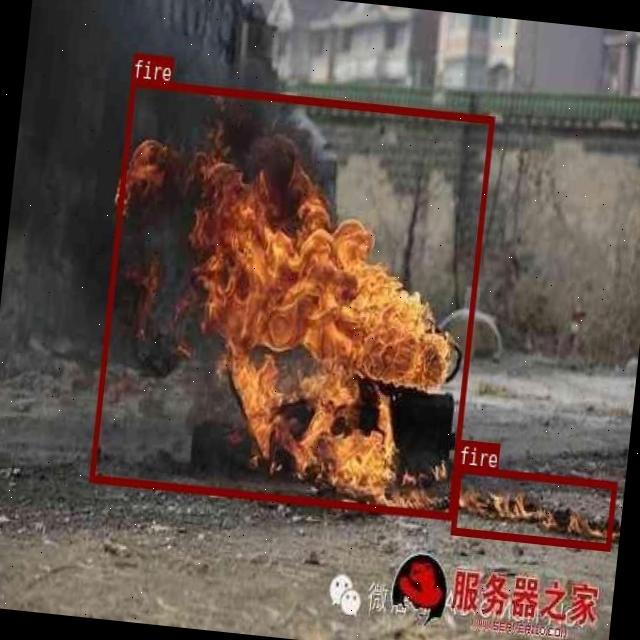fire: (90, 77, 493, 517), (450, 464, 616, 550)
